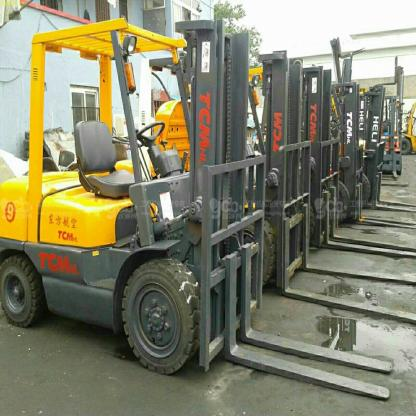forklift: (0, 16, 264, 374)
